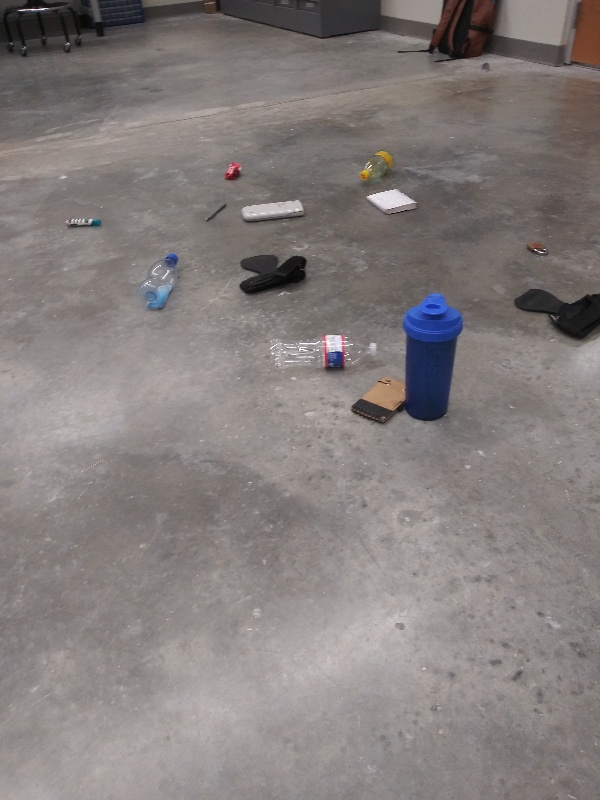bottle: (265, 332, 382, 378), (136, 249, 185, 314), (355, 145, 400, 187)
